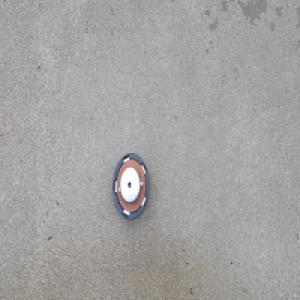FuelCap: (111, 152, 152, 225)
